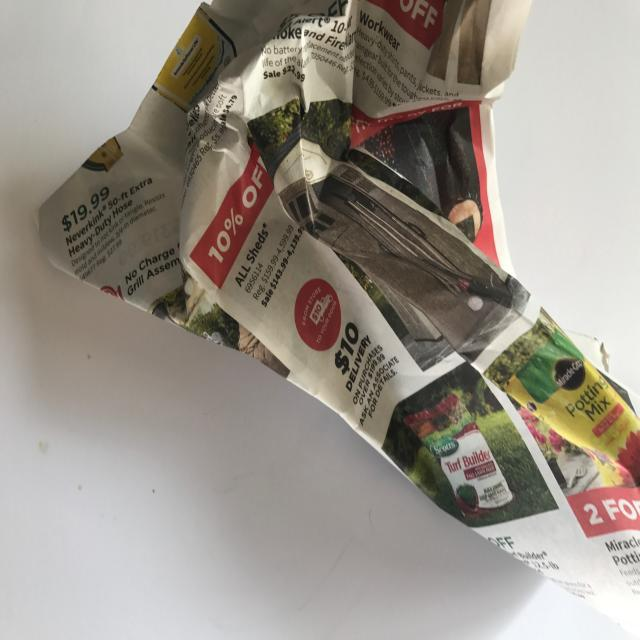paper: (27, 1, 640, 600)
